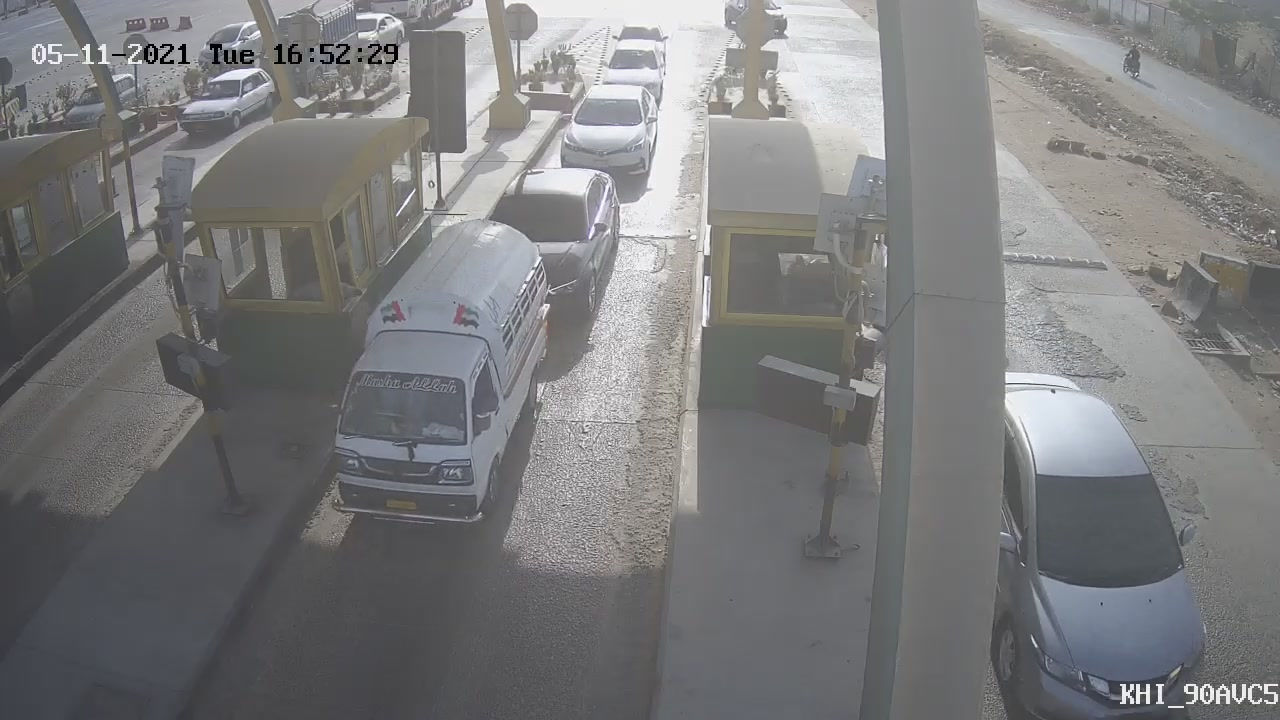F1: (329, 232, 569, 545), (537, 72, 670, 199)
